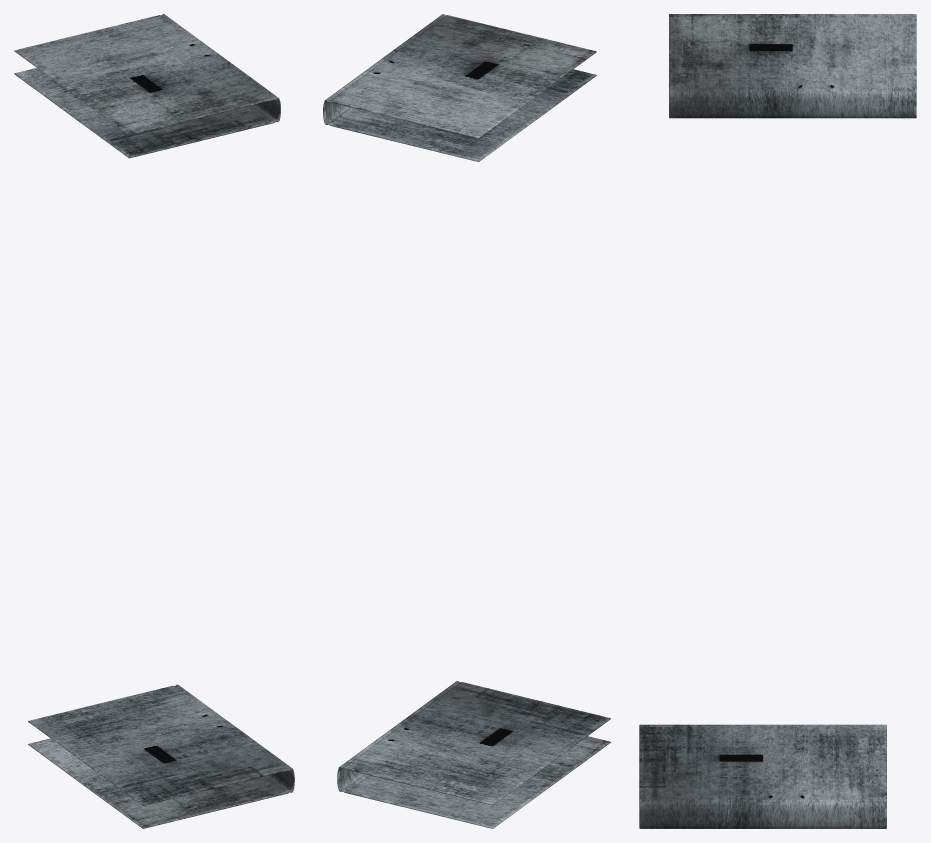
Rendered from bookshelf_1.obj.
3 renders of one model, left to right at view 1: azimuth 30°, elevation 25°; view 2: azimuth 150°, elevation 25°; view 3: azimuth 270°, elevation 25°, orthographic. The views are drawn at different scales.
Bounding box in the file's own units: 0.2695 × 1.16 × 0.395.
